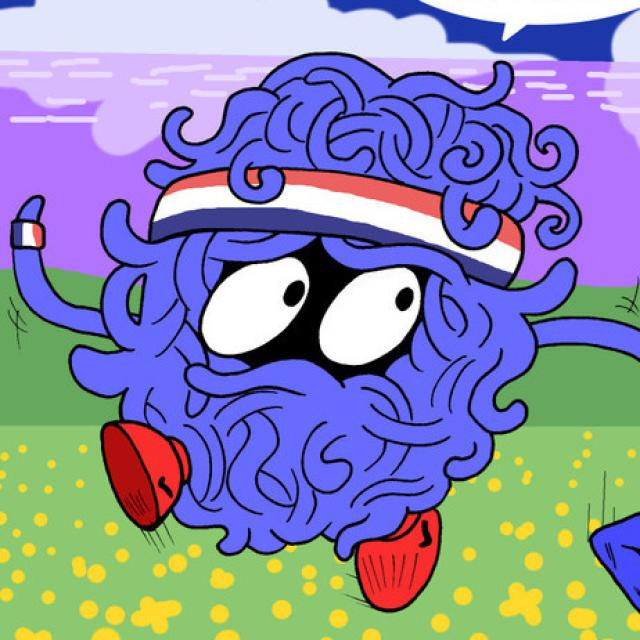Tangela: (0, 56, 569, 602)
